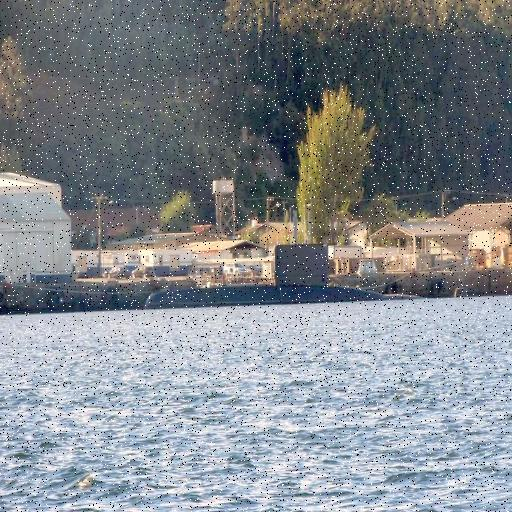submarine: (148, 234, 428, 307)
